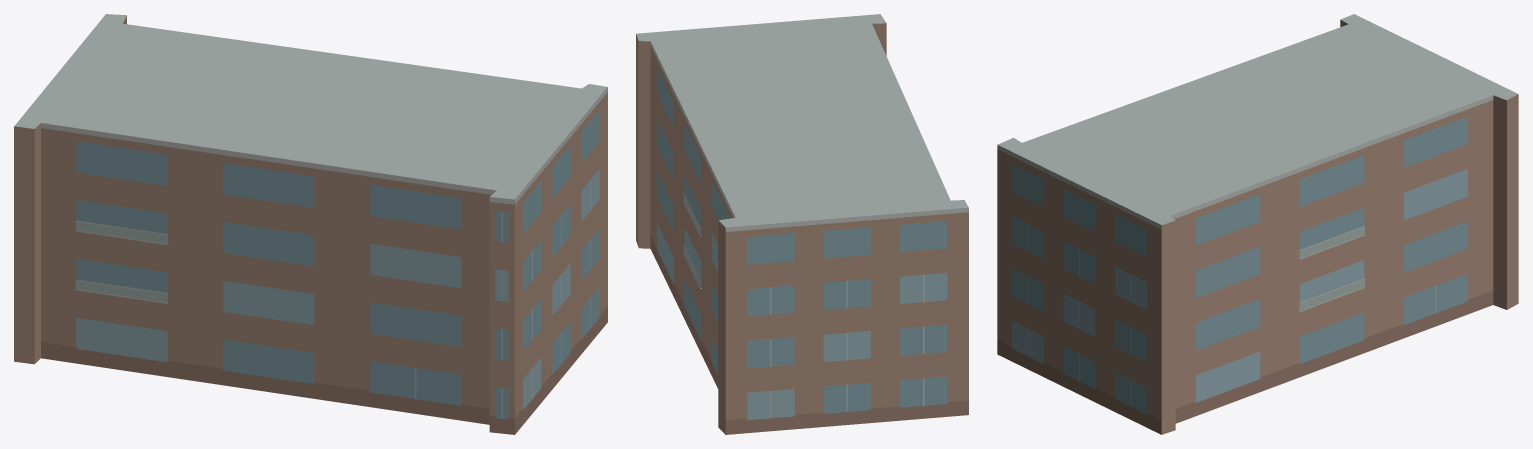
File: survey-upis-32963495.glb
3 renders of one model, left to right at view 1: azimuth 30°, elevation 25°; view 2: azimuth 150°, elevation 25°; view 3: azimuth 270°, elevation 25°, orthographic. The views are drawn at different scales.
Parts seen in each view (by area): view 1: survey-upis-32963495.tmp; view 2: survey-upis-32963495.tmp; view 3: survey-upis-32963495.tmp.
Boxes of the visible parts, left/top/right/bottom form: survey-upis-32963495.tmp: left=14, top=14, right=607, bottom=434; survey-upis-32963495.tmp: left=636, top=14, right=968, bottom=434; survey-upis-32963495.tmp: left=997, top=14, right=1518, bottom=434.
Bounding box in the file's own units: 24.19 × 11.2 × 25.23.
